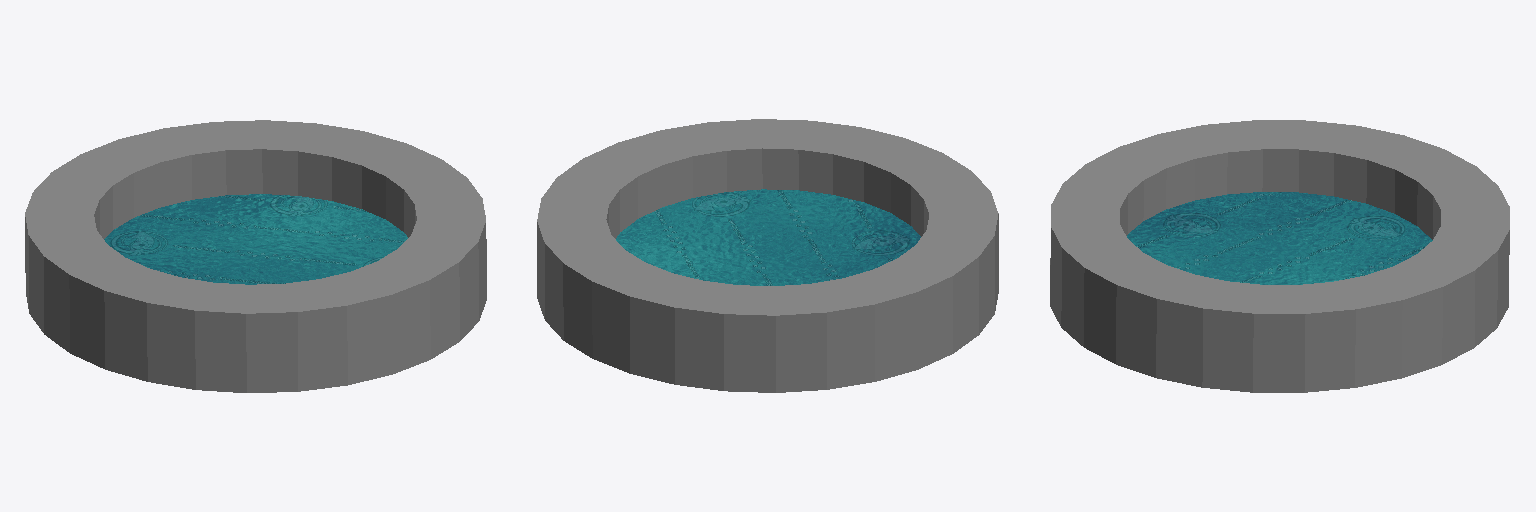
3 views of the same model, side by side, from view 1: azimuth 30°, elevation 25°; view 2: azimuth 150°, elevation 25°; view 3: azimuth 270°, elevation 25° (orthographic).
Parts seen in each view (by area): view 1: well; view 2: well; view 3: well.
Boxes of the visible parts, <box> form: well: <box>25,120,486,392</box>; well: <box>537,119,998,392</box>; well: <box>1050,120,1509,392</box>.
Bounding box in the file's own units: 9.84 × 1.88 × 9.86.
2 materials, 1 textured.